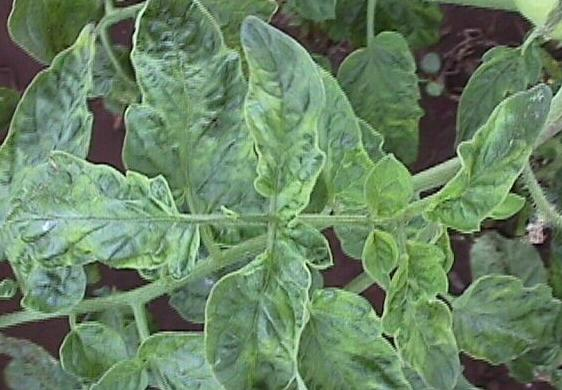Tomato leaf mosaic virus: (15, 154, 194, 273), (427, 77, 553, 231), (239, 12, 329, 211), (205, 234, 313, 390), (142, 1, 228, 177), (302, 282, 435, 390), (386, 241, 459, 390), (451, 275, 562, 361), (365, 152, 415, 223), (93, 360, 151, 390)
